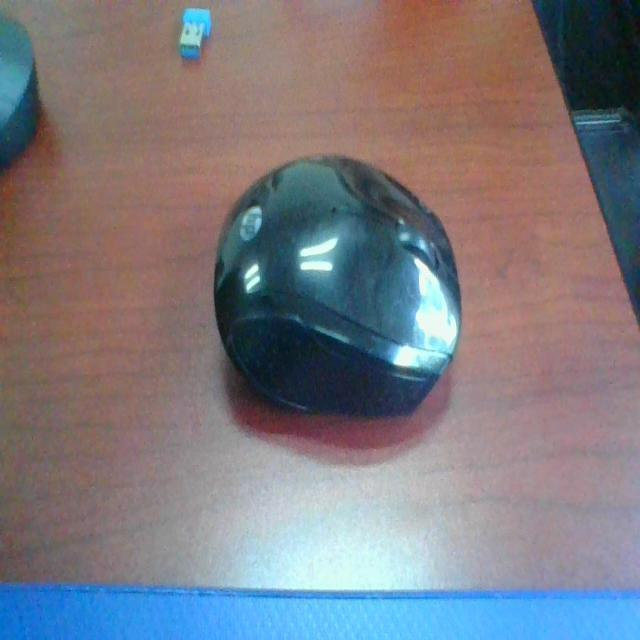Mouse: (209, 136, 483, 428)
